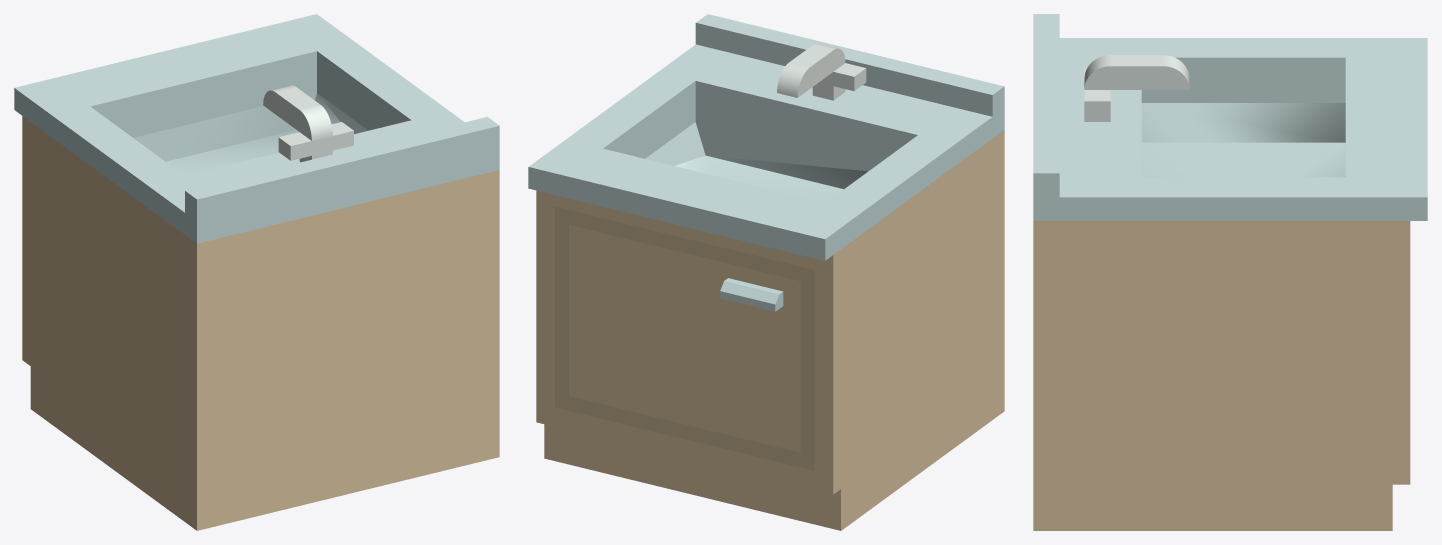
The model's file is kitchenSink.glb.
3 views of the same model, side by side, from view 1: azimuth 30°, elevation 25°; view 2: azimuth 150°, elevation 25°; view 3: azimuth 270°, elevation 25° (orthographic). The views are drawn at different scales.
Parts seen in each view (by area): view 1: kitchenSink; view 2: kitchenSink; view 3: kitchenSink.
Boxes of the visible parts, box(x1,y1,x2,y2) form: kitchenSink: box(14, 14, 499, 530); kitchenSink: box(528, 14, 1004, 530); kitchenSink: box(1033, 14, 1427, 530).
Size of the model in its own units: 4.3 by 4.9 by 4.5.
